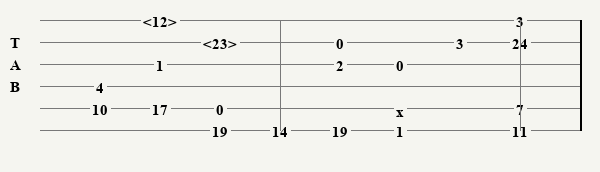0: (216, 101, 228, 115), (336, 35, 348, 49), (396, 57, 408, 71)
1: (156, 57, 168, 71), (396, 123, 408, 137)
10: (92, 101, 112, 115)
11: (512, 123, 532, 137)
14: (272, 123, 292, 137)
17: (152, 101, 172, 115)
19: (212, 123, 232, 137), (332, 123, 352, 137)
2: (336, 57, 348, 71)
24: (512, 35, 532, 49)
3: (456, 35, 468, 49), (516, 13, 528, 27)
4: (96, 79, 108, 93)
7: (516, 101, 528, 115)
harmonic: (143, 13, 181, 27), (203, 35, 241, 49)
x: (396, 103, 408, 114)
